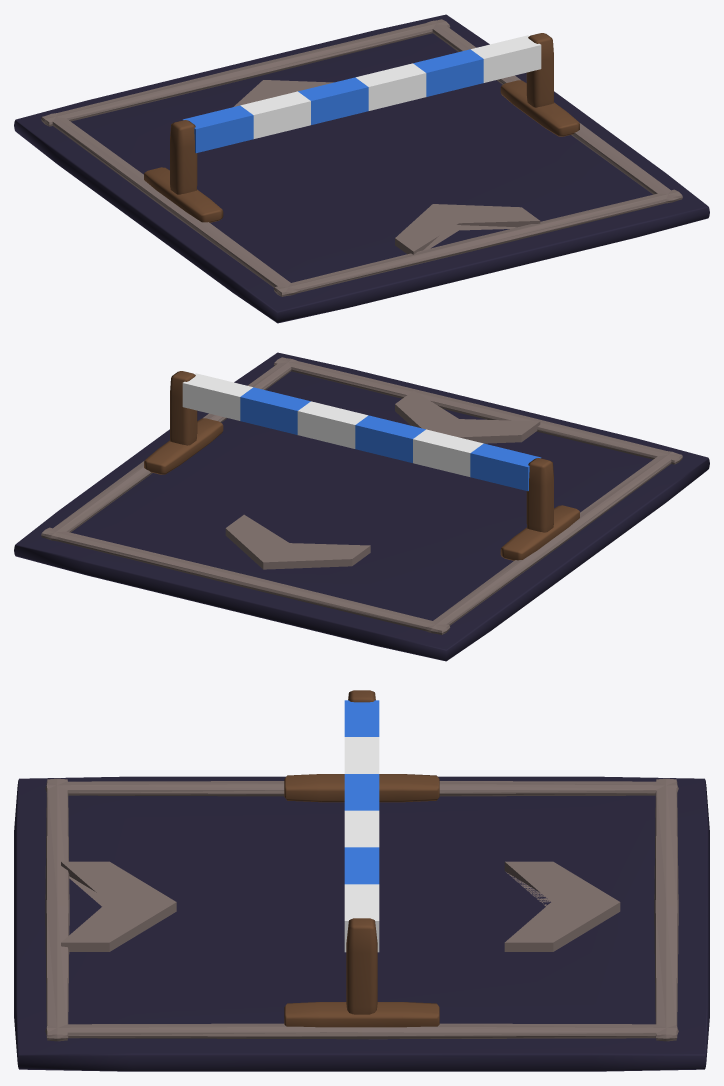
The model's file is RockinRacewayHurdle.obj.
3 renders of one model, top to bottom at view 1: azimuth 30°, elevation 25°; view 2: azimuth 150°, elevation 25°; view 3: azimuth 270°, elevation 25°, orthographic. The views are drawn at different scales.
Visible parts, largest first — view 1: Pad, Trim, Posts, BarB, BarA; view 2: Pad, Trim, Posts, BarB, BarA; view 3: Pad, Trim, Posts, BarB, BarA.
Part boxes in pixels (bbox=[...]): Pad: bbox=[14, 14, 709, 323]; Trim: bbox=[41, 19, 682, 296]; Posts: bbox=[144, 33, 579, 222]; BarB: bbox=[240, 35, 541, 138]; BarA: bbox=[182, 49, 483, 153]; Pad: bbox=[14, 352, 709, 661]; Trim: bbox=[41, 357, 682, 634]; Posts: bbox=[144, 371, 579, 560]; BarB: bbox=[182, 373, 483, 476]; BarA: bbox=[240, 387, 541, 491]; Pad: bbox=[14, 776, 709, 1071]; Trim: bbox=[45, 778, 678, 1041]; Posts: bbox=[284, 690, 439, 1027]; BarB: bbox=[344, 737, 379, 952]; BarA: bbox=[344, 700, 379, 884].
Size of the model in its own units: 3.8 by 0.8192 by 4.
